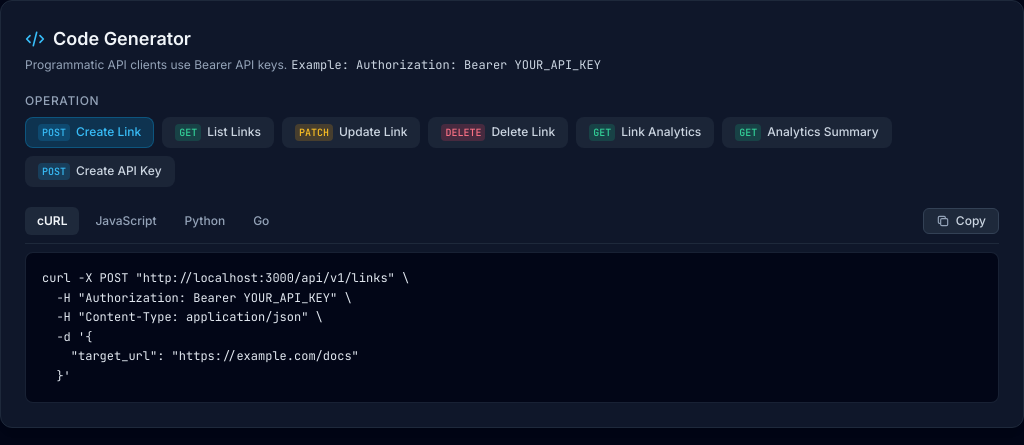
Test: CodeGenerator Component Tests › copies active code snippet to clipboard and shows Copied! state
The image size is (1024, 445).
Step 1. Click the button with aria-label "Copy code to clipboard" → {"x": 961, "y": 221}, box [923,208,999,234]
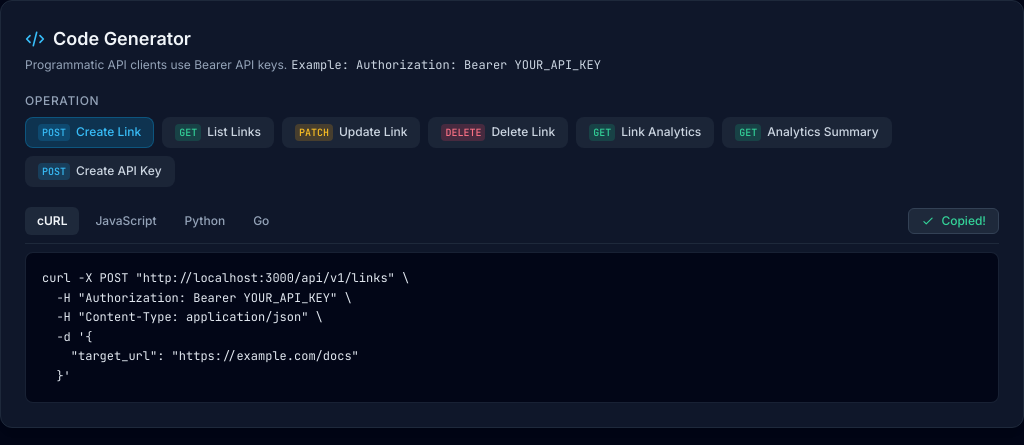
Expected: the text "Copied!" is shown, [941,213,986,229]
